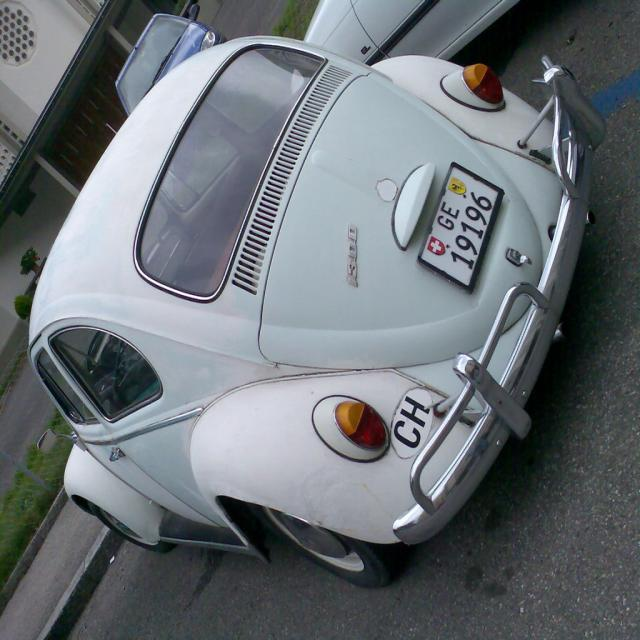car: (26, 37, 603, 591)
